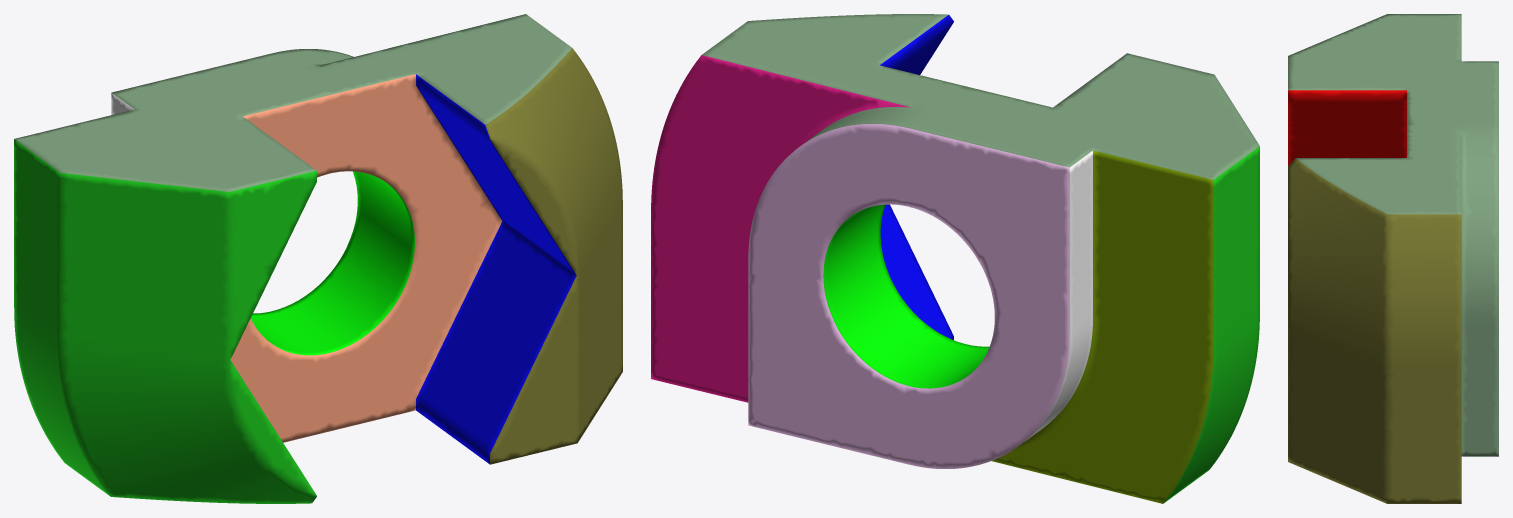
Rendered from model_15_segmented_new.obj.
3 views of the same model, side by side, from view 1: azimuth 30°, elevation 25°; view 2: azimuth 150°, elevation 25°; view 3: azimuth 270°, elevation 25° (orthographic). The views are drawn at different scales.
Bounding box in the file's own units: 10.5 × 6 × 4.25.
